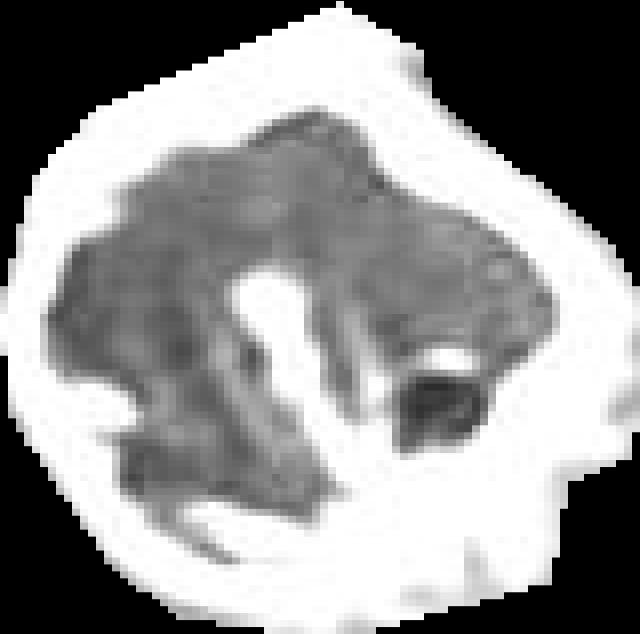tumor_moderate_chance: (0, 1, 640, 634)
